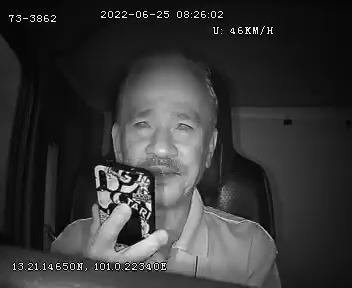PhoneUse: (80, 150, 168, 274)
